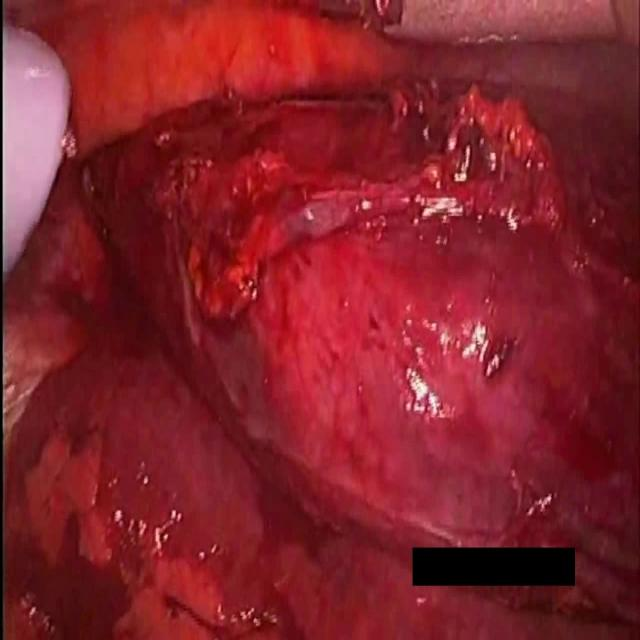surgical-area: (403, 587, 584, 639)
